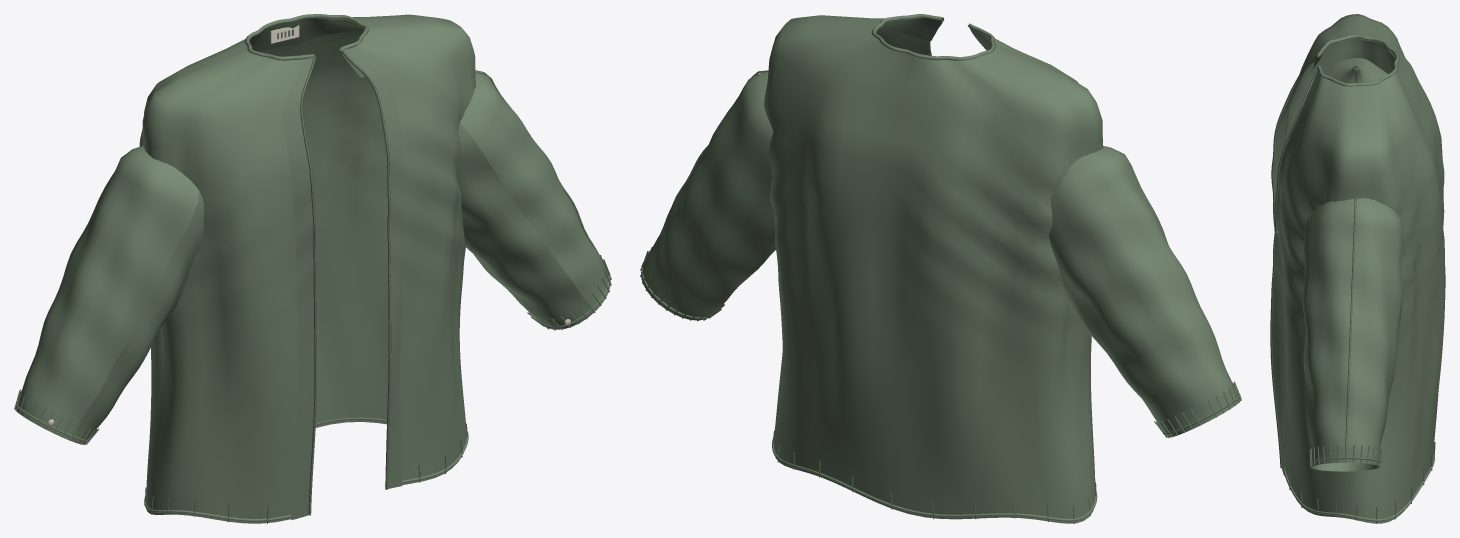
Rendered from moss-knit.glb.
3 views of the same model, side by side, from view 1: azimuth 30°, elevation 25°; view 2: azimuth 150°, elevation 25°; view 3: azimuth 270°, elevation 25° (orthographic). The views are drawn at different scales.
Visible parts, largest first — view 1: hollow-tailored-body, hollow-left-sleeve, hollow-right-sleeve, ribbed-open-front-1, ribbed-open-front-0, inside-neck-facing, open-front-fold-1, open-front-fold-0, open-cuff-facing--1, soft-neck-binding, double-stitched-hem, open-cuff-facing-1; view 2: hollow-tailored-body, hollow-left-sleeve, hollow-right-sleeve, open-cuff-facing--1, double-stitched-hem, soft-neck-binding, inside-neck-facing, open-cuff-facing-1; view 3: hollow-tailored-body, hollow-right-sleeve, ribbed-open-front-0, hollow-left-sleeve, open-cuff-facing-1, open-front-fold-0, soft-neck-binding, underarm-seam-1, double-stitched-hem, open-front-fold-1.
Boxes of the visible parts, bbox=[...] form: hollow-tailored-body: bbox=[139, 14, 476, 523]; hollow-left-sleeve: bbox=[21, 145, 204, 430]; hollow-right-sleeve: bbox=[456, 70, 605, 320]; ribbed-open-front-1: bbox=[283, 58, 314, 519]; ribbed-open-front-0: bbox=[343, 49, 405, 488]; inside-neck-facing: bbox=[250, 18, 364, 77]; open-front-fold-1: bbox=[300, 57, 316, 515]; open-front-fold-0: bbox=[341, 49, 391, 489]; open-cuff-facing--1: bbox=[15, 391, 97, 444]; soft-neck-binding: bbox=[245, 14, 368, 60]; double-stitched-hem: bbox=[144, 417, 468, 521]; open-cuff-facing-1: bbox=[529, 258, 610, 329]; hollow-tailored-body: bbox=[764, 15, 1103, 523]; hollow-left-sleeve: bbox=[1049, 146, 1233, 422]; hollow-right-sleeve: bbox=[646, 72, 775, 312]; open-cuff-facing--1: bbox=[1156, 383, 1240, 437]; double-stitched-hem: bbox=[772, 438, 1097, 521]; soft-neck-binding: bbox=[871, 14, 995, 60]; inside-neck-facing: bbox=[879, 18, 990, 50]; open-cuff-facing-1: bbox=[641, 250, 723, 320]; hollow-tailored-body: bbox=[1274, 14, 1445, 523]; hollow-right-sleeve: bbox=[1303, 198, 1402, 471]; ribbed-open-front-0: bbox=[1272, 69, 1318, 475]; hollow-left-sleeve: bbox=[1327, 58, 1387, 83]; open-cuff-facing-1: bbox=[1311, 446, 1380, 471]; open-front-fold-0: bbox=[1270, 67, 1317, 468]; soft-neck-binding: bbox=[1316, 34, 1399, 86]; underarm-seam-1: bbox=[1345, 197, 1356, 462]; double-stitched-hem: bbox=[1284, 448, 1434, 521]; open-front-fold-1: bbox=[1271, 54, 1317, 230].
Bounding box in the file's own units: 0.9476 × 0.6815 × 0.2703.
